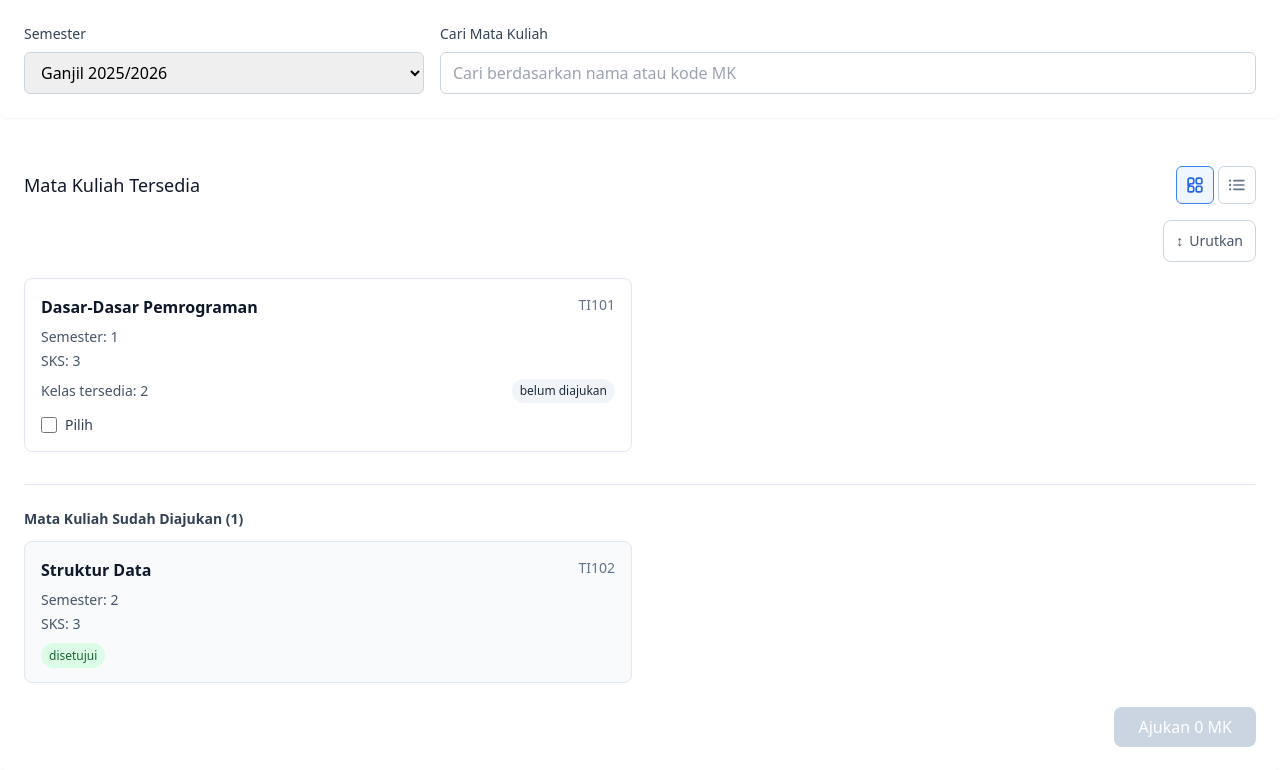
DosenSelectMK (T3.9 — semester dari /dosen/semesters + search 3 huruf) › pilih MK lalu submit → POST /dosen/courses/select per MK + success
Expected: the heading "Dasar-Dasar Pemrograman" is shown, [41, 295, 258, 319]
Step 1. Click the checkbox → (49, 425), box [41, 417, 57, 433]
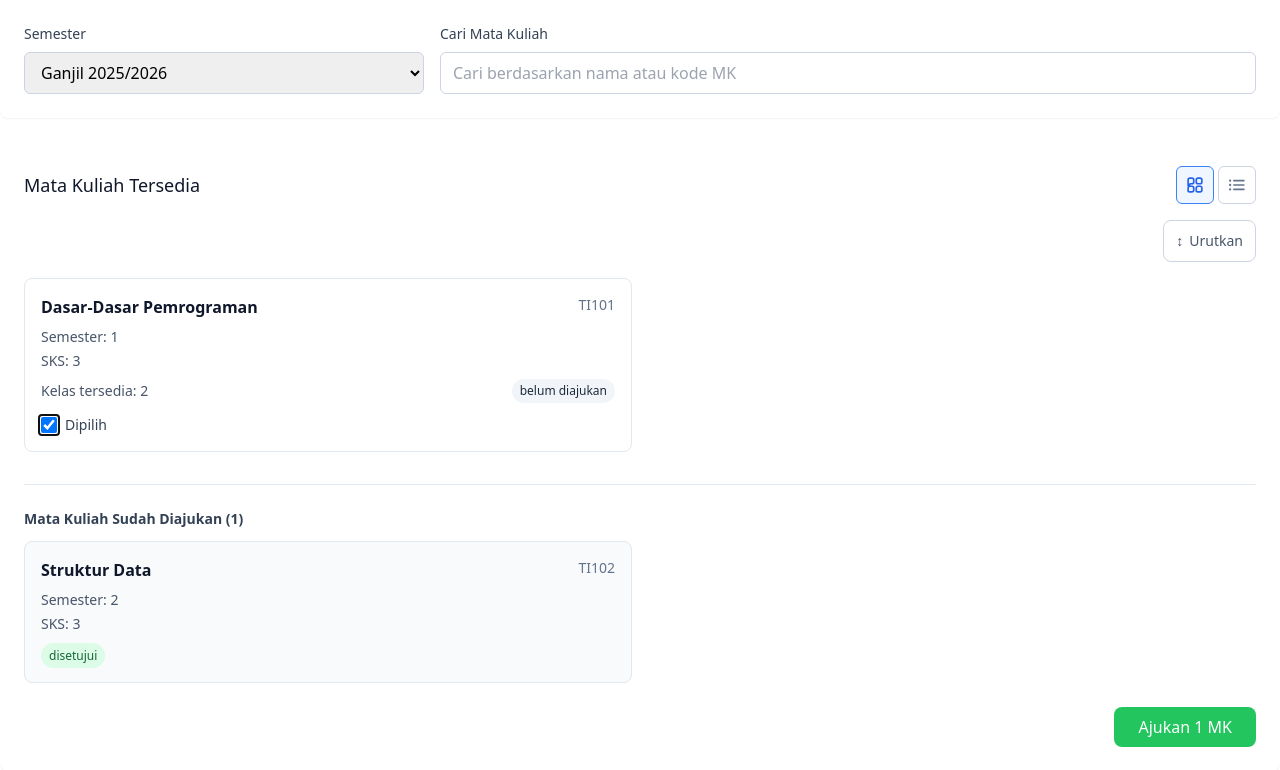
Step 2. Click the button "Ajukan 1 MK" → (1185, 727), box [1114, 707, 1256, 747]
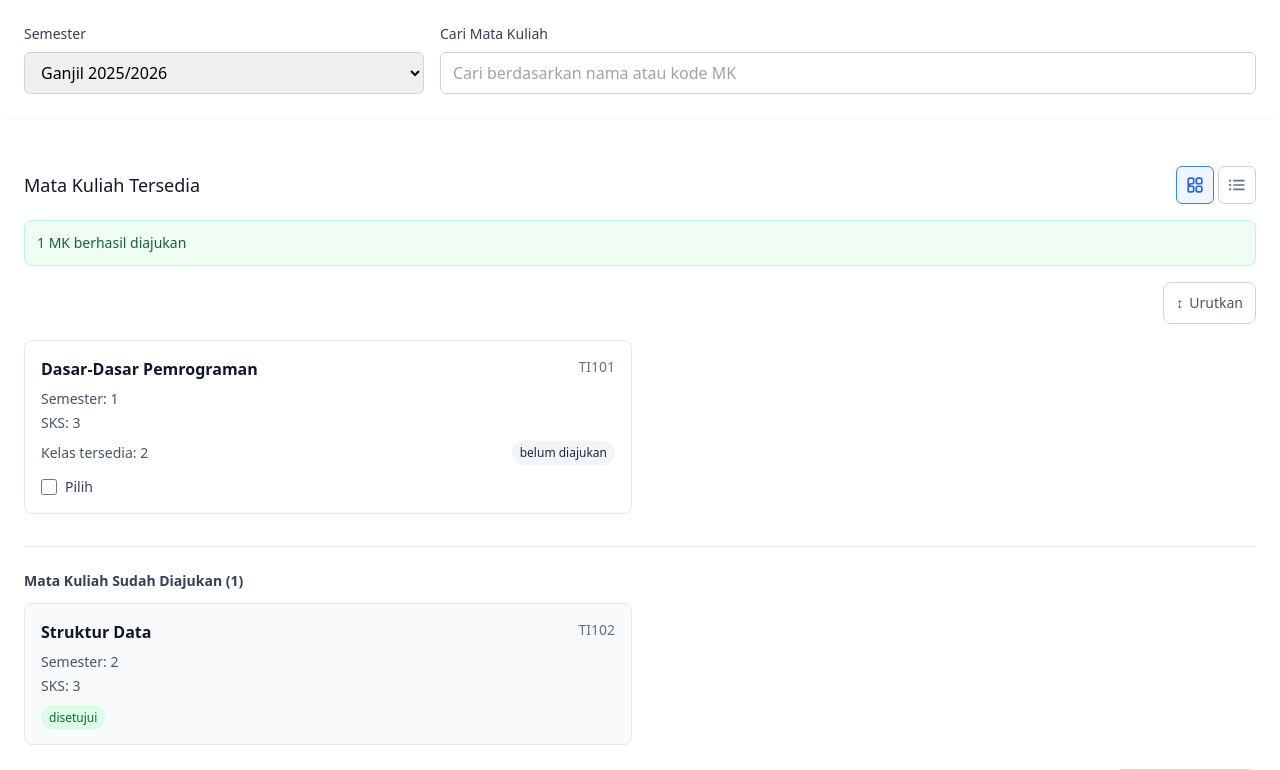
Expected: the message reads "1 MK berhasil diajukan", [37, 233, 186, 252]
